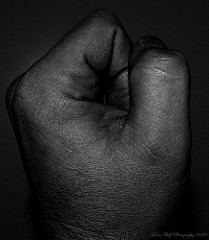fist: (17, 19, 195, 198)
